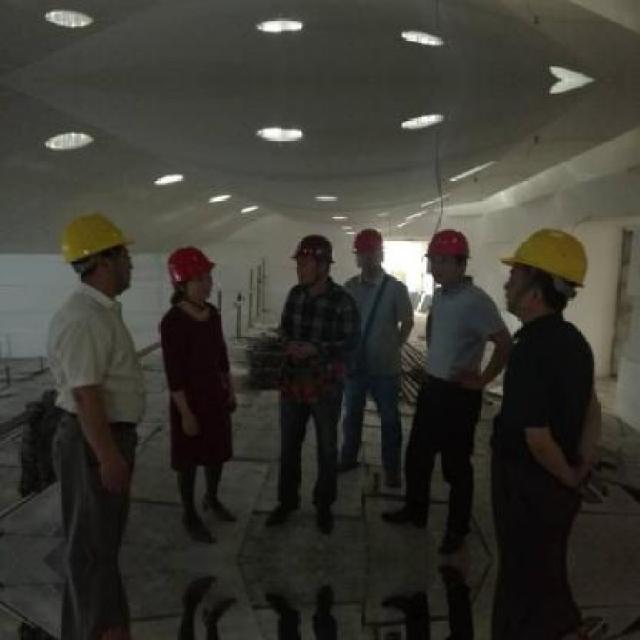helmet: (505, 227, 588, 286), (62, 212, 131, 262), (168, 244, 216, 284), (424, 226, 474, 262), (291, 232, 334, 264), (354, 226, 385, 250)
